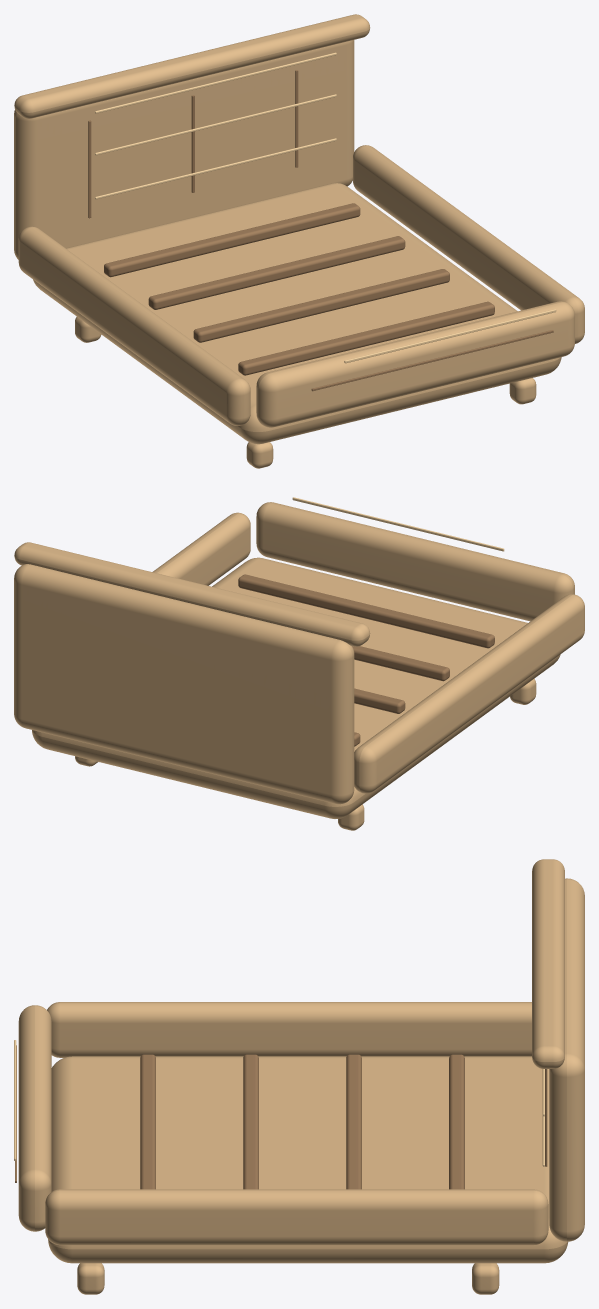
The model's file is 目标图高级温润原木床架.fbx.
3 views of the same model, one above another, from view 1: azimuth 30°, elevation 25°; view 2: azimuth 150°, elevation 25°; view 3: azimuth 270°, elevation 25° (orthographic). The views are drawn at different scales.
Visible parts, largest first — view 1: 高级温润原木床架_v349_床头低矮厚背板, 高级温润原木床架_v349_低矮整托底座, 高级温润原木床架_v349_床尾圆角横梁, 高级温润原木床架_v349_左侧圆角长边轨, 高级温润原木床架_v349_右侧圆角长边轨, 高级温润原木床架_v349_床头顶部圆木横梁, 高级温润原木床架_v349_内收床板条.002, 高级温润原木床架_v349_内收床板条, 高级温润原木床架_v349_内收床板条.003, 高级温润原木床架_v349_内收床板条.001, 高级温润原木床架_v349_床尾木纹柔线, 高级温润原木床架_v349_床头横向清漆线.001 (+5 smaller); view 2: 高级温润原木床架_v349_床头低矮厚背板, 高级温润原木床架_v349_低矮整托底座, 高级温润原木床架_v349_床尾圆角横梁, 高级温润原木床架_v349_左侧圆角长边轨, 高级温润原木床架_v349_床头顶部圆木横梁, 高级温润原木床架_v349_内收床板条, 高级温润原木床架_v349_右侧圆角长边轨, 高级温润原木床架_v349_内收床板条.001, 高级温润原木床架_v349_床尾上沿清漆高光, 高级温润原木床架_v349_内收床板条.002, 高级温润原木床架_v349_圆润短木脚.001; view 3: 高级温润原木床架_v349_低矮整托底座, 高级温润原木床架_v349_右侧圆角长边轨, 高级温润原木床架_v349_左侧圆角长边轨, 高级温润原木床架_v349_床头低矮厚背板, 高级温润原木床架_v349_床尾圆角横梁, 高级温润原木床架_v349_床头顶部圆木横梁, 高级温润原木床架_v349_内收床板条, 高级温润原木床架_v349_内收床板条.001, 高级温润原木床架_v349_内收床板条.002, 高级温润原木床架_v349_内收床板条.003, 高级温润原木床架_v349_圆润短木脚.002, 高级温润原木床架_v349_圆润短木脚.003.
Boxes of the visible parts, x1=… form: 高级温润原木床架_v349_床头低矮厚背板: x1=14, y1=40, x2=354, y2=259; 高级温润原木床架_v349_低矮整托底座: x1=33, y1=183, x2=561, y2=444; 高级温润原木床架_v349_床尾圆角横梁: x1=256, y1=301, x2=574, y2=427; 高级温润原木床架_v349_左侧圆角长边轨: x1=18, y1=226, x2=250, y2=425; 高级温润原木床架_v349_右侧圆角长边轨: x1=353, y1=145, x2=584, y2=343; 高级温润原木床架_v349_床头顶部圆木横梁: x1=14, y1=14, x2=370, y2=118; 高级温润原木床架_v349_内收床板条.002: x1=148, y1=236, x2=405, y2=309; 高级温润原木床架_v349_内收床板条: x1=238, y1=301, x2=494, y2=375; 高级温润原木床架_v349_内收床板条.003: x1=104, y1=203, x2=360, y2=277; 高级温润原木床架_v349_内收床板条.001: x1=193, y1=269, x2=449, y2=342; 高级温润原木床架_v349_床尾木纹柔线: x1=311, y1=330, x2=553, y2=391; 高级温润原木床架_v349_床头横向清漆线.001: x1=95, y1=94, x2=336, y2=155; 高级温润原木床架_v349_床头低矮厚背板: x1=14, y1=564, x2=354, y2=804; 高级温润原木床架_v349_低矮整托底座: x1=32, y1=557, x2=560, y2=818; 高级温润原木床架_v349_床尾圆角横梁: x1=256, y1=502, x2=574, y2=621; 高级温润原木床架_v349_左侧圆角长边轨: x1=354, y1=594, x2=584, y2=793; 高级温润原木床架_v349_床头顶部圆木横梁: x1=14, y1=542, x2=370, y2=646; 高级温润原木床架_v349_内收床板条: x1=238, y1=574, x2=494, y2=648; 高级温润原木床架_v349_右侧圆角长边轨: x1=152, y1=512, x2=250, y2=585; 高级温润原木床架_v349_内收床板条.001: x1=352, y1=646, x2=449, y2=681; 高级温润原木床架_v349_床尾上沿清漆高光: x1=292, y1=497, x2=504, y2=551; 高级温润原木床架_v349_内收床板条.002: x1=354, y1=688, x2=405, y2=713; 高级温润原木床架_v349_圆润短木脚.001: x1=338, y1=804, x2=364, y2=830; 高级温润原木床架_v349_低矮整托底座: x1=48, y1=1056, x2=568, y2=1263; 高级温润原木床架_v349_右侧圆角长边轨: x1=45, y1=1189, x2=548, y2=1245; 高级温润原木床架_v349_左侧圆角长边轨: x1=47, y1=1002, x2=531, y2=1057; 高级温润原木床架_v349_床头低矮厚背板: x1=549, y1=878, x2=584, y2=1241; 高级温润原木床架_v349_床尾圆角横梁: x1=18, y1=1005, x2=51, y2=1231; 高级温润原木床架_v349_床头顶部圆木横梁: x1=532, y1=859, x2=564, y2=1068; 高级温润原木床架_v349_内收床板条: x1=140, y1=1054, x2=155, y2=1189; 高级温润原木床架_v349_内收床板条.001: x1=243, y1=1054, x2=258, y2=1189; 高级温润原木床架_v349_内收床板条.002: x1=346, y1=1054, x2=361, y2=1189; 高级温润原木床架_v349_内收床板条.003: x1=449, y1=1054, x2=464, y2=1189; 高级温润原木床架_v349_圆润短木脚.002: x1=77, y1=1263, x2=104, y2=1294; 高级温润原木床架_v349_圆润短木脚.003: x1=472, y1=1263, x2=499, y2=1294.
Size of the model in its own units: 165 by 102 by 200.
